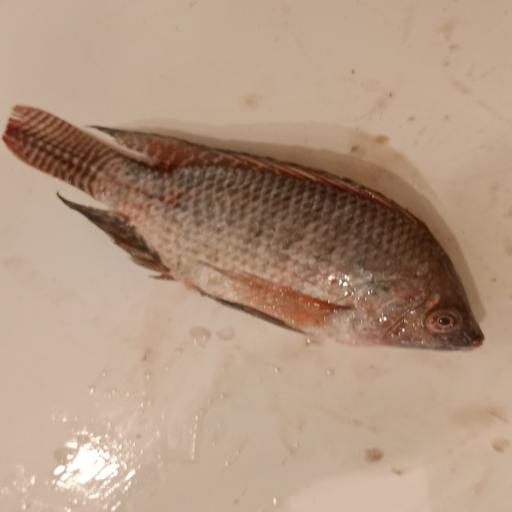Tilapia: (3, 105, 485, 351)
